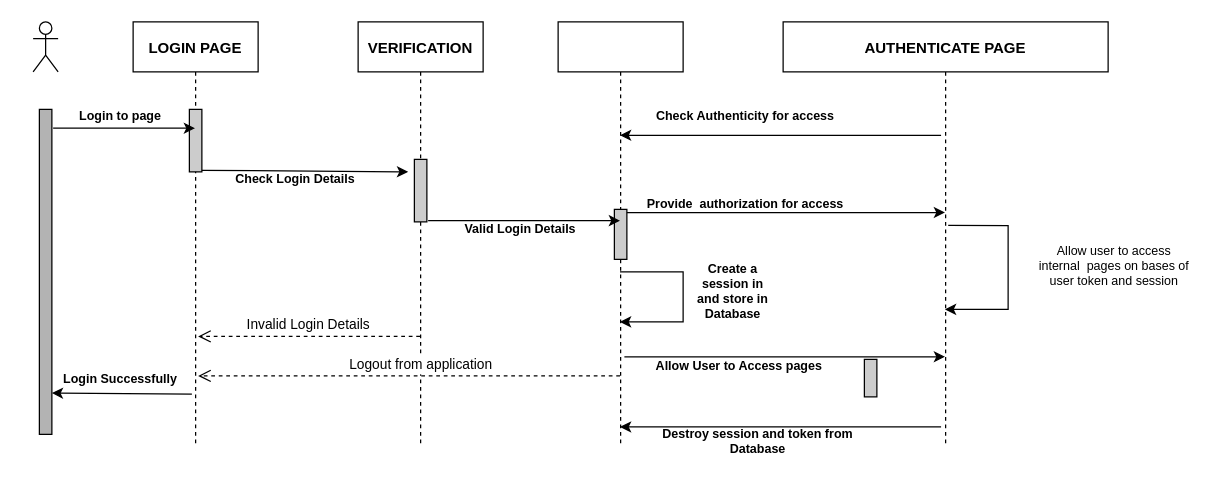
Some shapes in this 1218 by 481 pixel diagram are drawn without their labels. Here are the shapes that lost their labels. From the top down, the centre of each, then its label:
the point at 45,46: ADMIN
the point at 620,234: DATABASE
